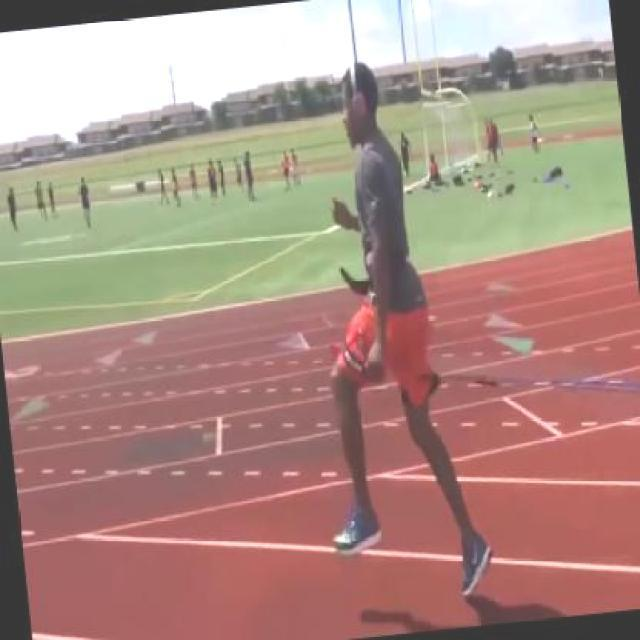non-fight: (284, 50, 496, 616)
